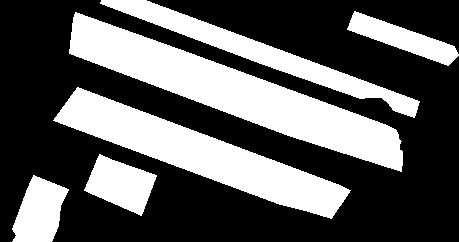parkingspot: (69, 12, 402, 171), (53, 87, 350, 218), (100, 0, 419, 117), (347, 11, 458, 65), (84, 154, 156, 215), (12, 175, 68, 242)
